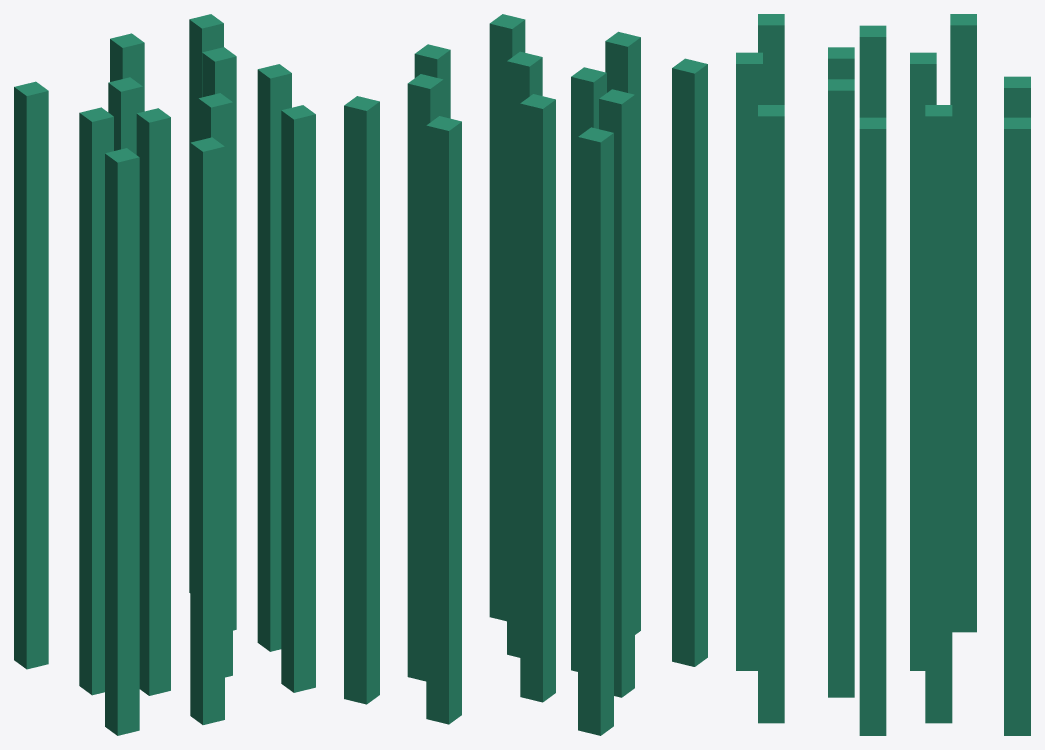
File: plant_d.gltf
The picture shows the model from 3 angles, left to right: view 1: azimuth 30°, elevation 25°; view 2: azimuth 150°, elevation 25°; view 3: azimuth 270°, elevation 25°; orthographic projection. The views are drawn at different scales.
Parts seen in each view (by area): view 1: plant_d; view 2: plant_d; view 3: plant_d.
Part boxes in pixels (<box>): plant_d: <box>14,14,315,735</box>; plant_d: <box>344,14,707,735</box>; plant_d: <box>736,14,1030,735</box>.
Size of the model in its own units: 0.4061 by 1 by 0.4402.
1 material, 1 textured.
